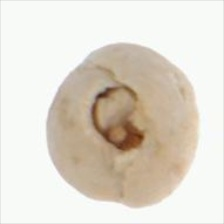L3: (89, 75, 144, 158)
L4: (46, 42, 199, 210)
